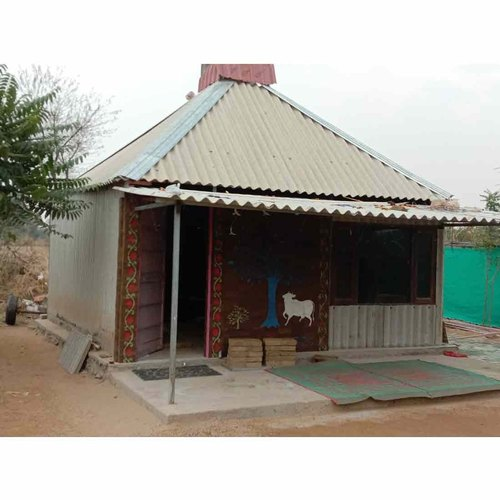Tin-shade House: (56, 74, 470, 364)
